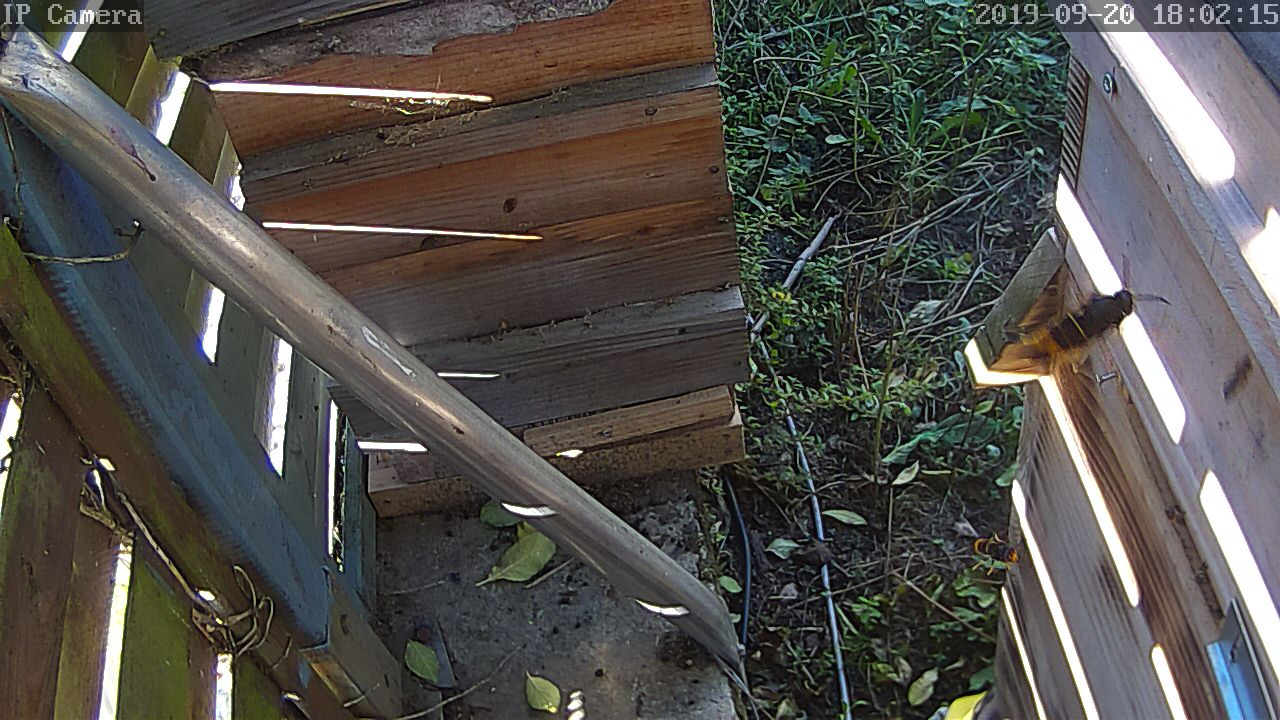bee: (1215, 349, 1260, 399)
hornet: (1022, 266, 1151, 375), (966, 526, 1025, 578)
